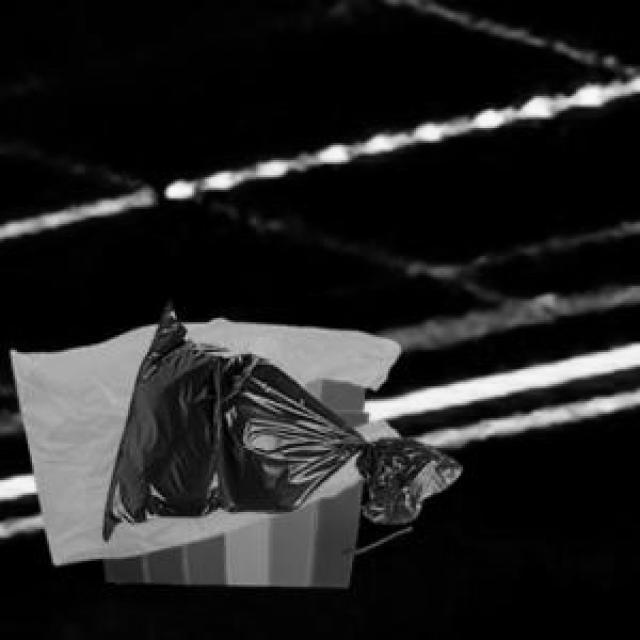miscellaneous trash: (98, 299, 457, 538)
paper: (100, 376, 365, 582)
